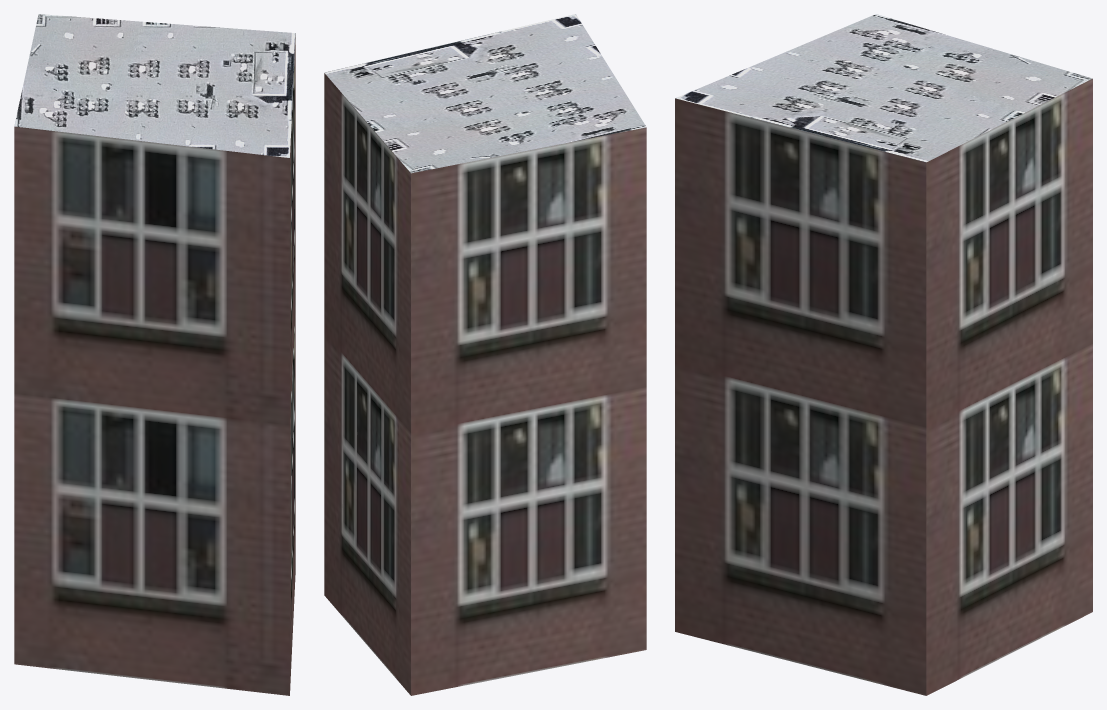
File: ResTex__5072.fbx
3 views of the same model, side by side, from view 1: azimuth 30°, elevation 25°; view 2: azimuth 150°, elevation 25°; view 3: azimuth 270°, elevation 25° (orthographic). The views are drawn at different scales.
Visible parts, largest first — view 1: CityEngineMaterial_12_m, CityEngineMaterial_m; view 2: CityEngineMaterial_12_m, CityEngineMaterial_m; view 3: CityEngineMaterial_12_m, CityEngineMaterial_m.
Boxes of the visible parts, box(x1,y1,x2,y2) form: CityEngineMaterial_12_m: box(14, 37, 295, 695); CityEngineMaterial_m: box(14, 14, 295, 157); CityEngineMaterial_12_m: box(324, 73, 646, 695); CityEngineMaterial_m: box(324, 14, 646, 173); CityEngineMaterial_12_m: box(675, 78, 1092, 695); CityEngineMaterial_m: box(675, 14, 1092, 162).
Size of the model in its own units: 3.58 by 6 by 4.26.
2 materials, 2 textured.
